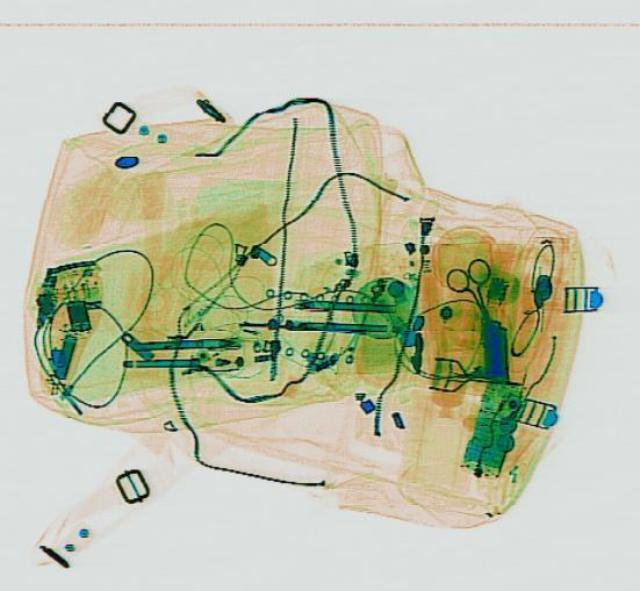Scissors: (438, 255, 508, 328)
